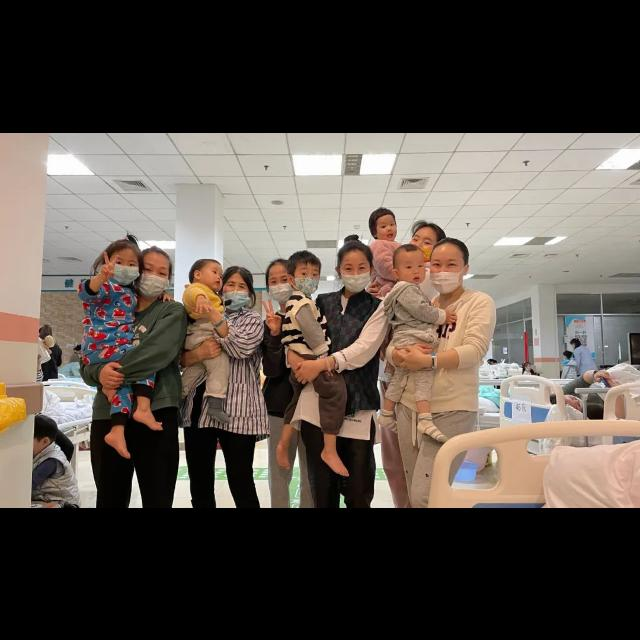masks: (141, 272, 171, 298), (431, 269, 462, 293), (342, 272, 371, 294), (222, 290, 252, 310), (114, 262, 138, 286), (268, 284, 294, 304), (294, 276, 320, 294)
